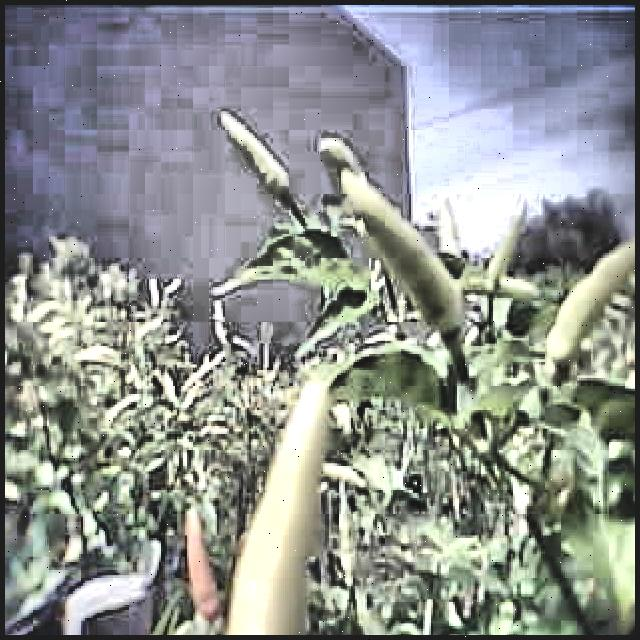Cabai: (173, 500, 225, 634)
